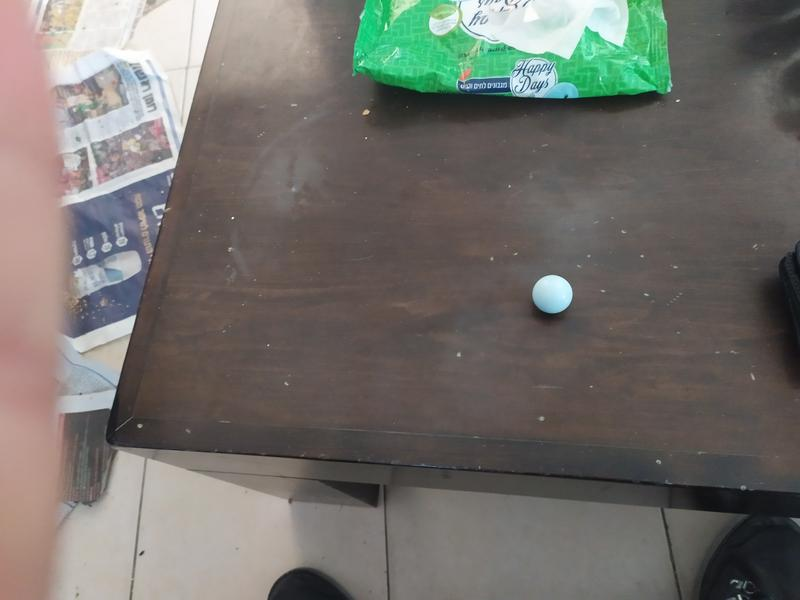Warning: (530, 272, 575, 316)
